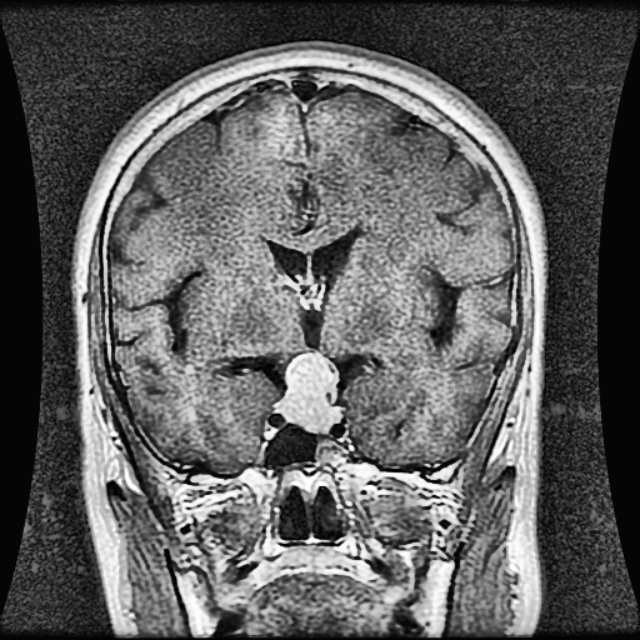Pituitary: (278, 352, 340, 432)
